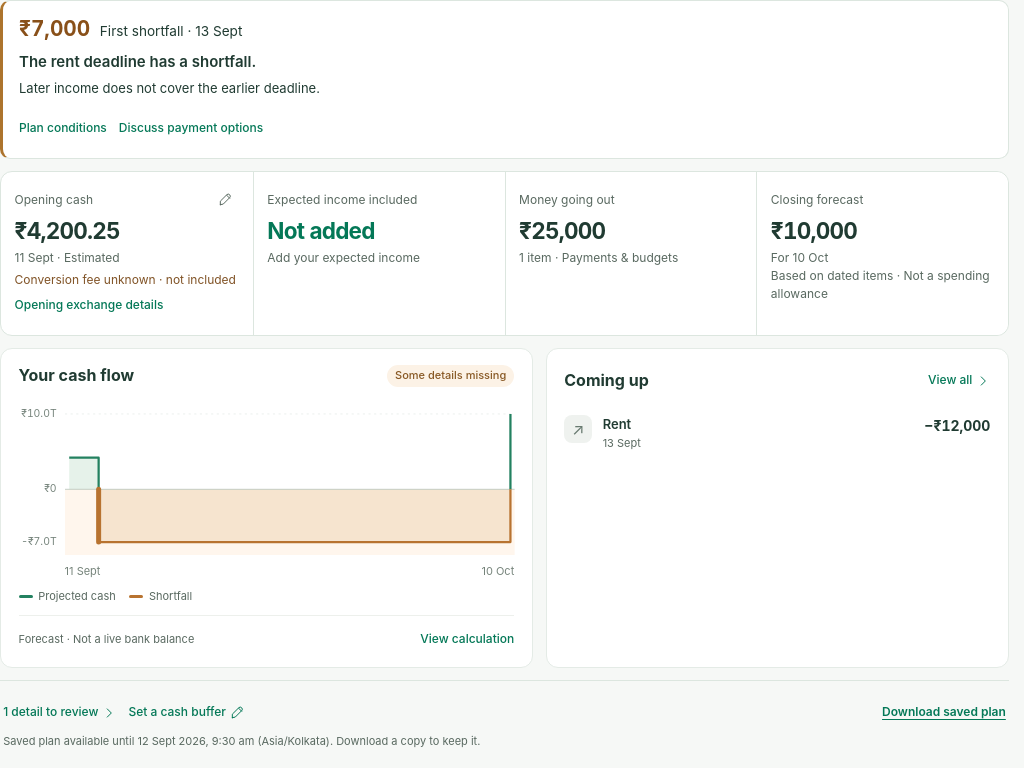
Scenario: uses current opening 420025 in the metric and calculation, with capture only in exchange details
The width and height of the screenshot is (1024, 768).
Check: the text "Conversion fee unknown · not included" is shown, box x1=15 y1=271 x2=239 y2=289
Check: the text "Captured INR:" is not shown
Click the button "View calculation" at (467, 640), box x1=420 y1=624 x2=514 y2=656
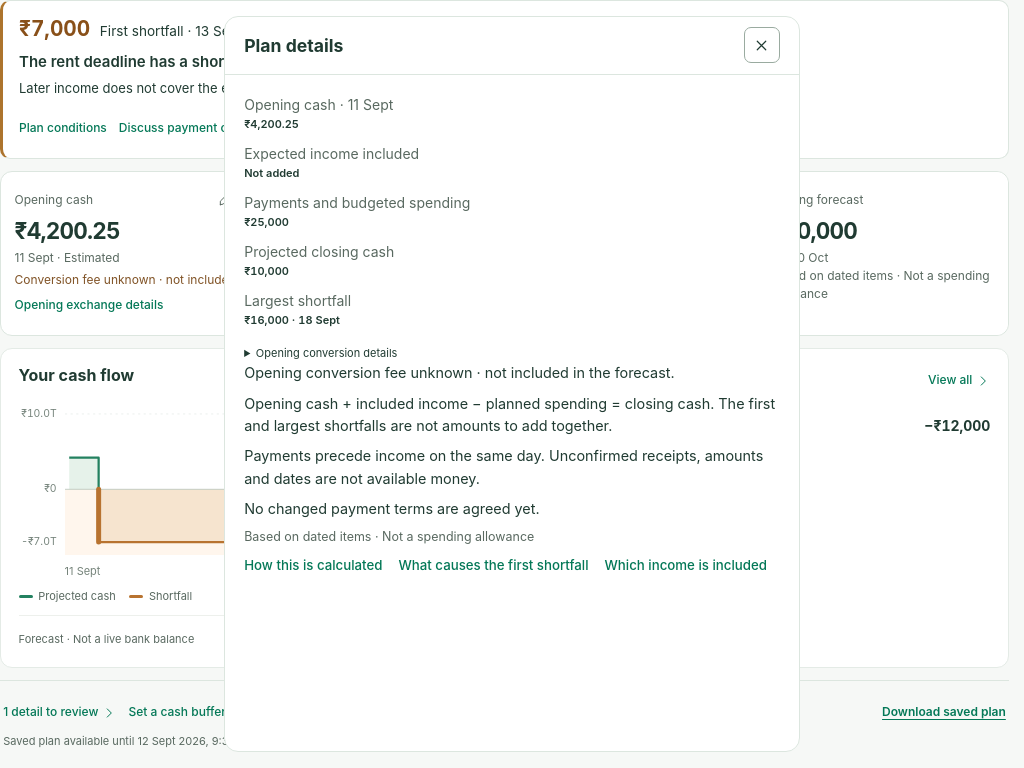
Check: the text "Captured INR:" is not shown
Check: the text "Opening conversion fee unknown" is shown, box x1=244 y1=364 x2=675 y2=381
Click the button named "Close plan details" at (762, 45), box x1=744 y1=27 x2=780 y2=63
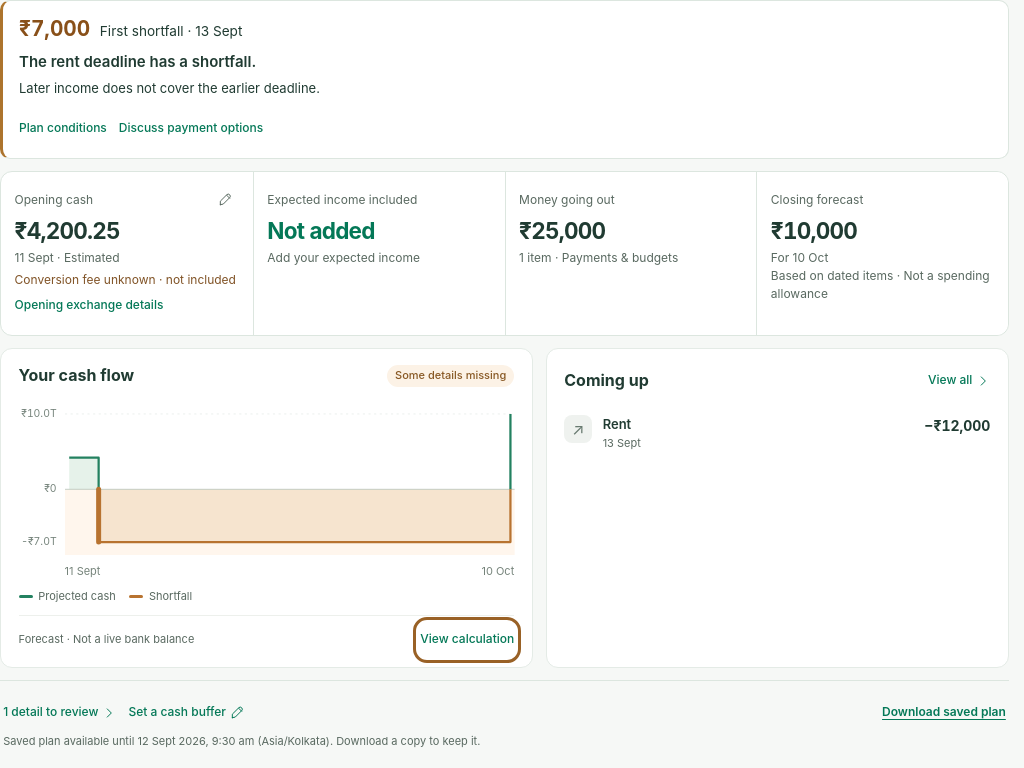
Click the button "Opening exchange details" at (89, 305), box x1=15 y1=289 x2=163 y2=321
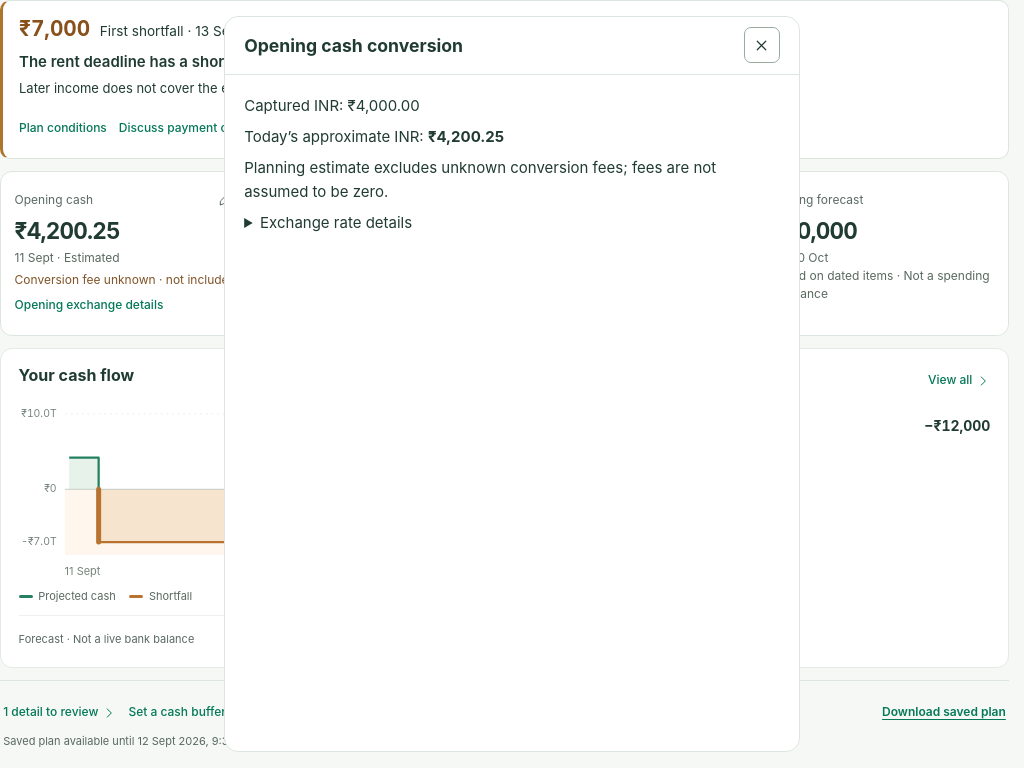
Check: the text "Captured INR: ₹4,000.00" is shown, box x1=244 y1=96 x2=420 y2=115
Check: the dialog "Opening cash conversion" shows "fees are not assumed to be zero", box x1=244 y1=158 x2=716 y2=201
